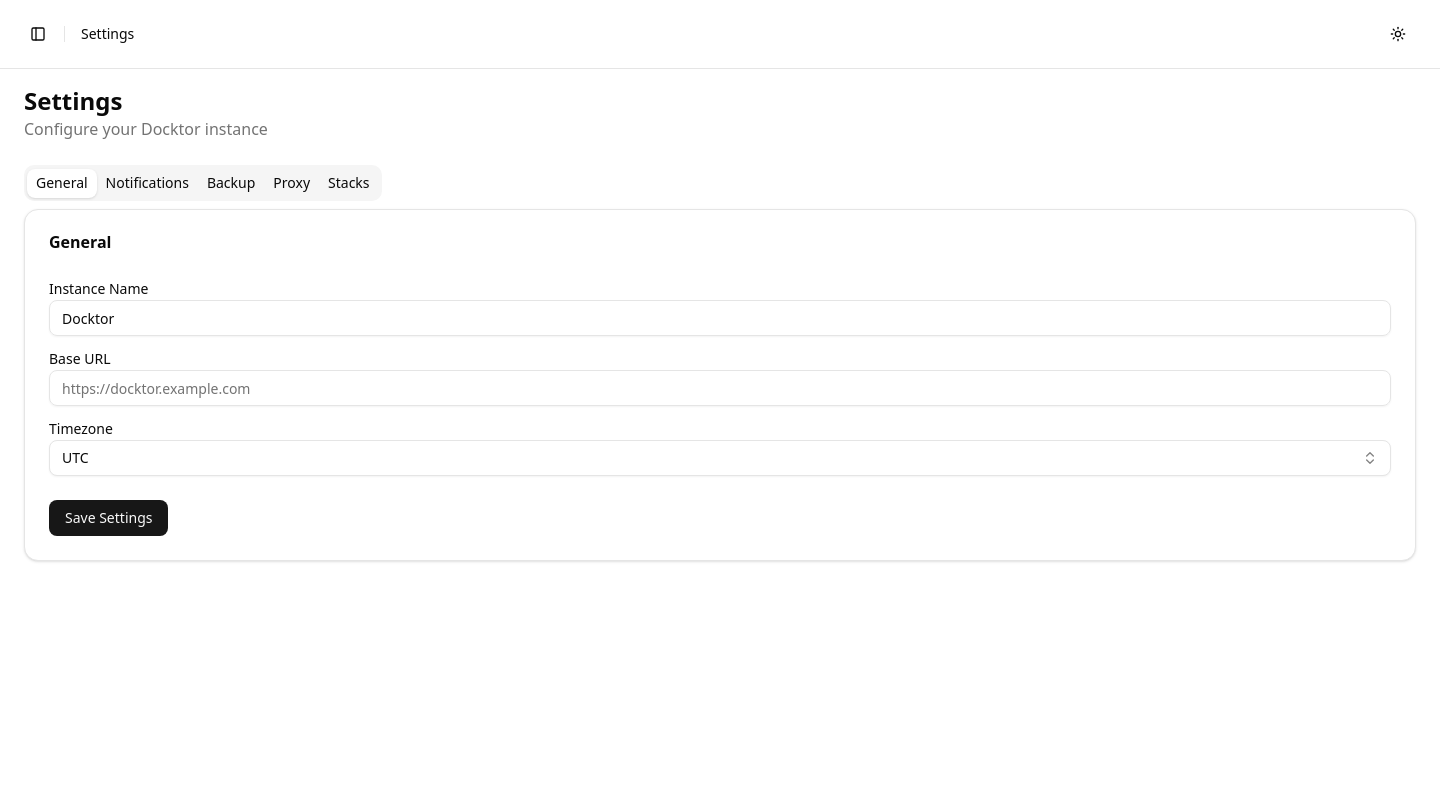
it: SettingsPage › shows a 400 ApiError mentioning instance name under the Instance name field
This screenshot has width=1440, height=810.
Expected: the field showing "Docktor" is shown, [49,300,1391,336]
Click the button "Save Settings": (109, 518) [49,500,168,536]
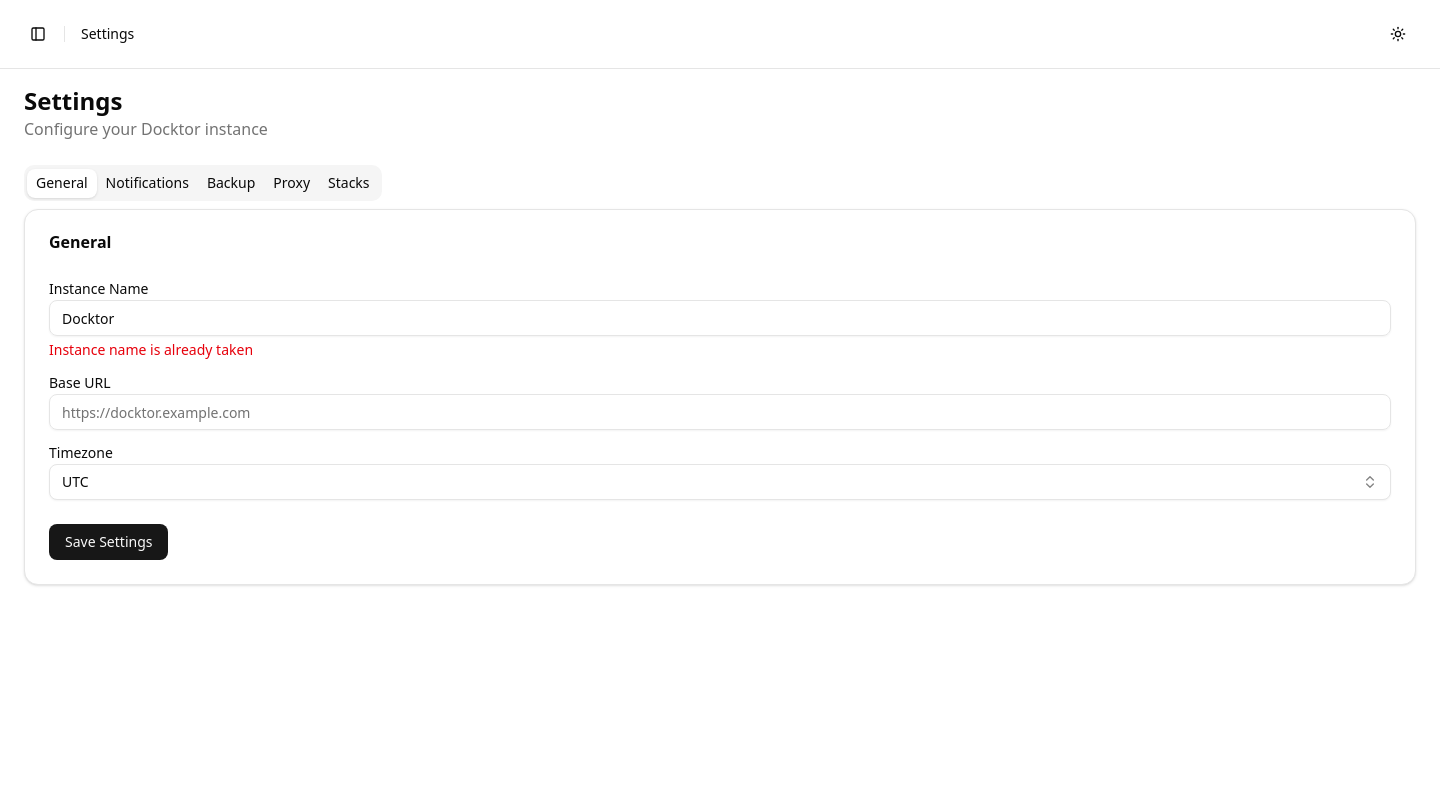
Result: the text "Instance name is already taken" is shown at [49,340,253,359]
